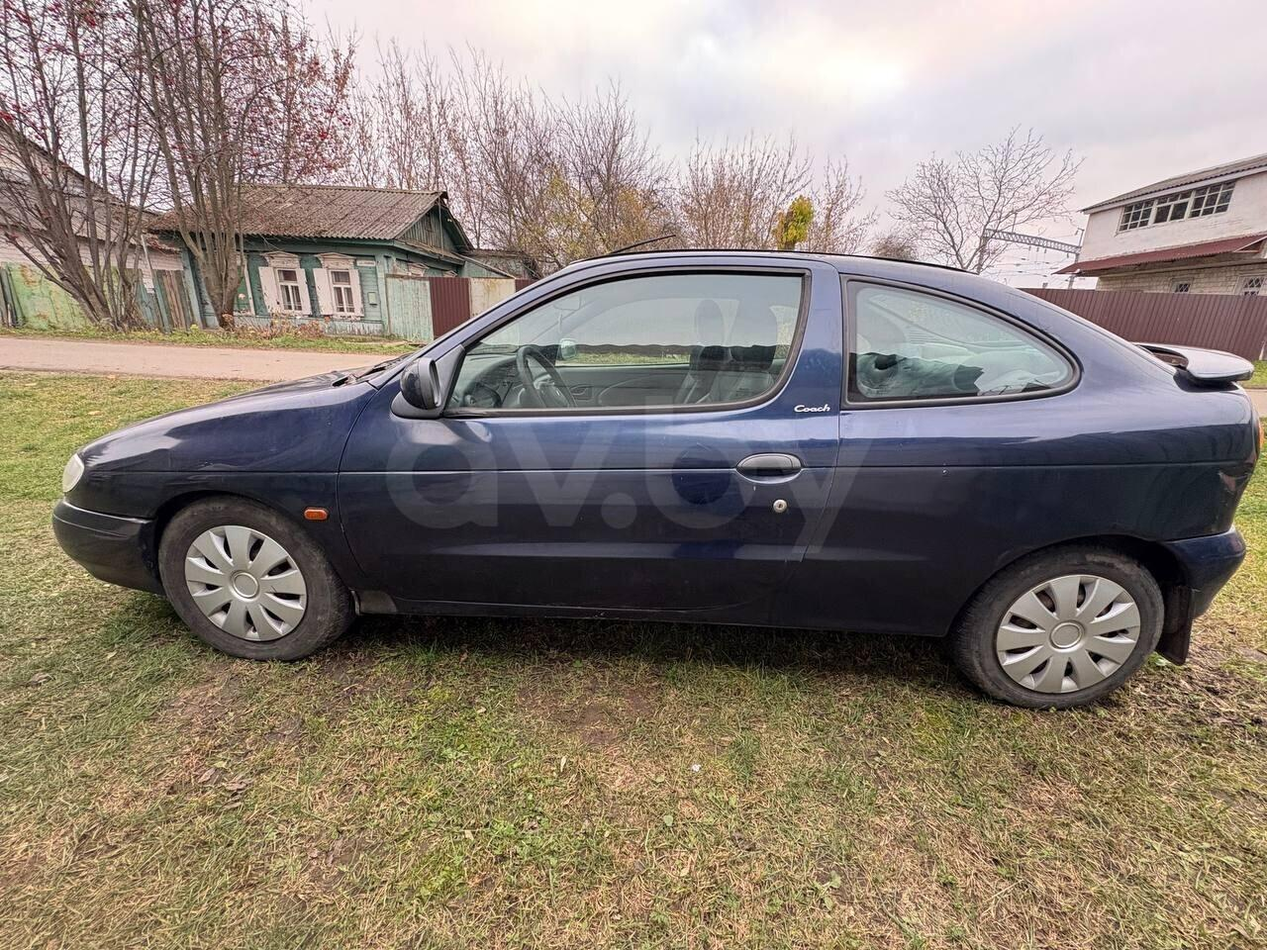Megane_1995-1999: (47, 245, 1255, 734)
